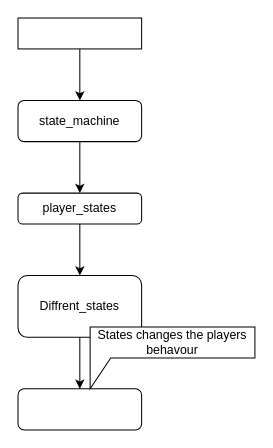
Some shapes in this 273 by 448 pixel diagram are drawn without their labels. The box of each missing label's shape, as (x1, y1, x2, y2) in pixels:
Player: (17, 388, 142, 430)
States: (17, 17, 142, 49)
